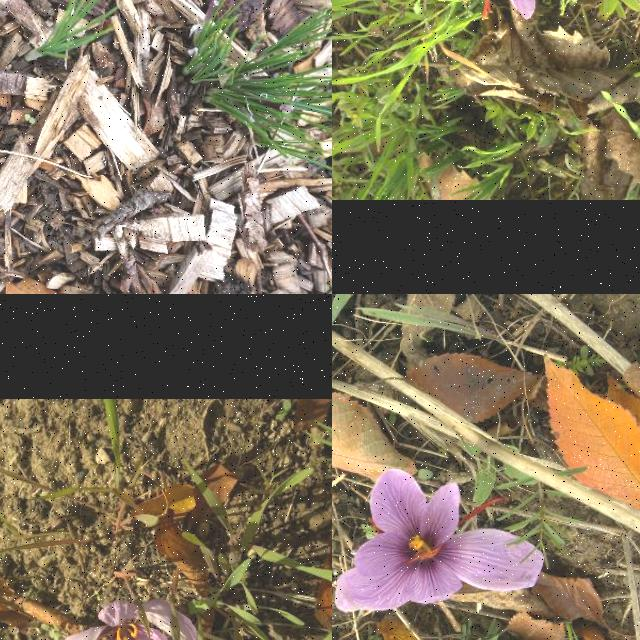flower: (334, 468, 544, 612), (40, 598, 202, 640)
